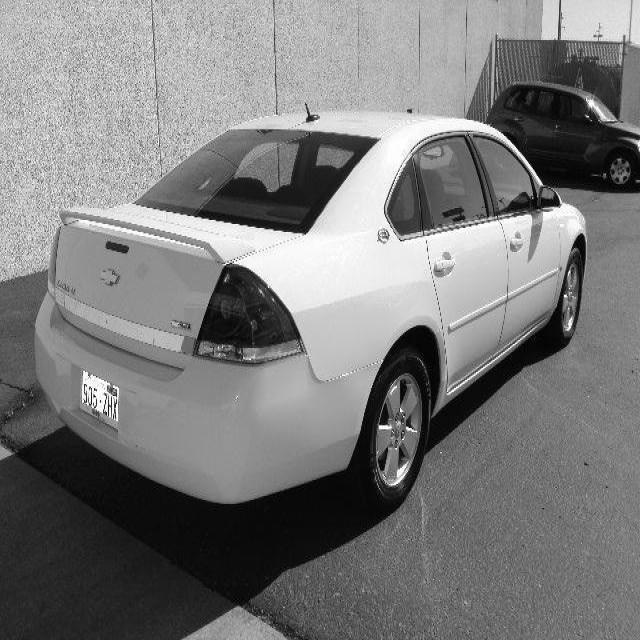car: (33, 101, 587, 514)
plat_license: (79, 368, 119, 425)
